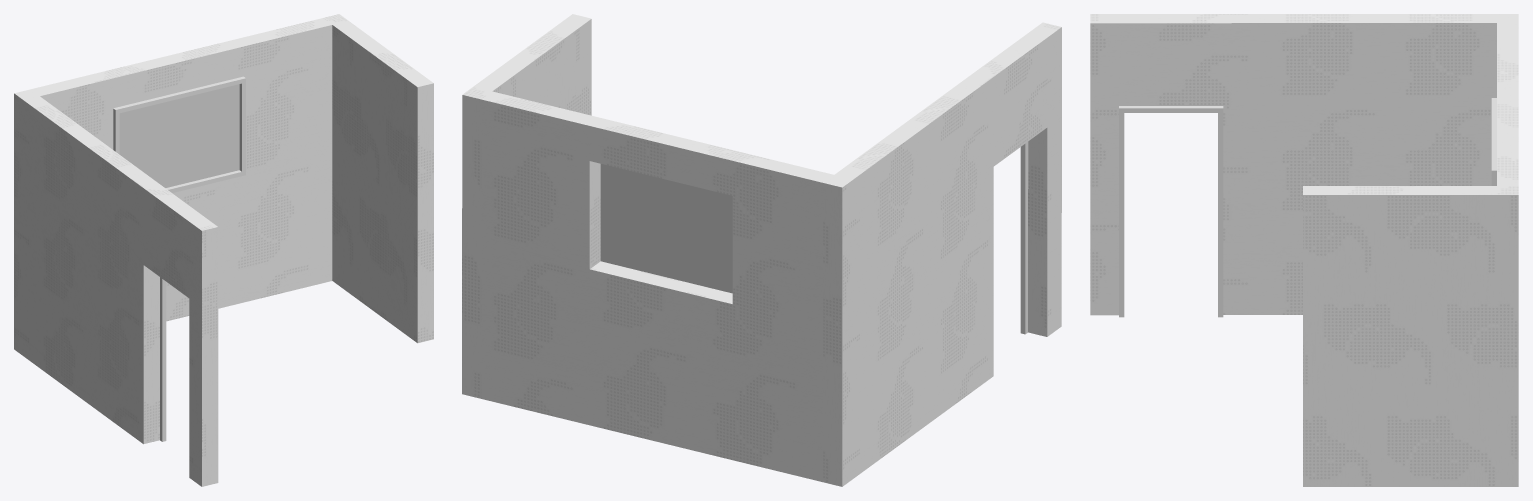
File: cadre bureau.fbx
3 renders of one model, left to right at view 1: azimuth 30°, elevation 25°; view 2: azimuth 150°, elevation 25°; view 3: azimuth 270°, elevation 25°, orthographic. The views are drawn at different scales.
Visible parts, largest first — view 1: REACO, Plane, REACO.001; view 2: REACO, Plane; view 3: REACO, REACO.001.
Boxes of the visible parts, x1,y1,x2,y2 form: REACO: (14,14,433,486); Plane: (119,84,239,187); REACO.001: (113,76,245,192); REACO: (462,14,1061,486); Plane: (600,164,732,293); REACO: (1090,14,1518,486); REACO.001: (1491,98,1496,185).
Bounding box in the file's own units: 399 × 300 × 399.
Materials: 3 (1 with a texture image).
